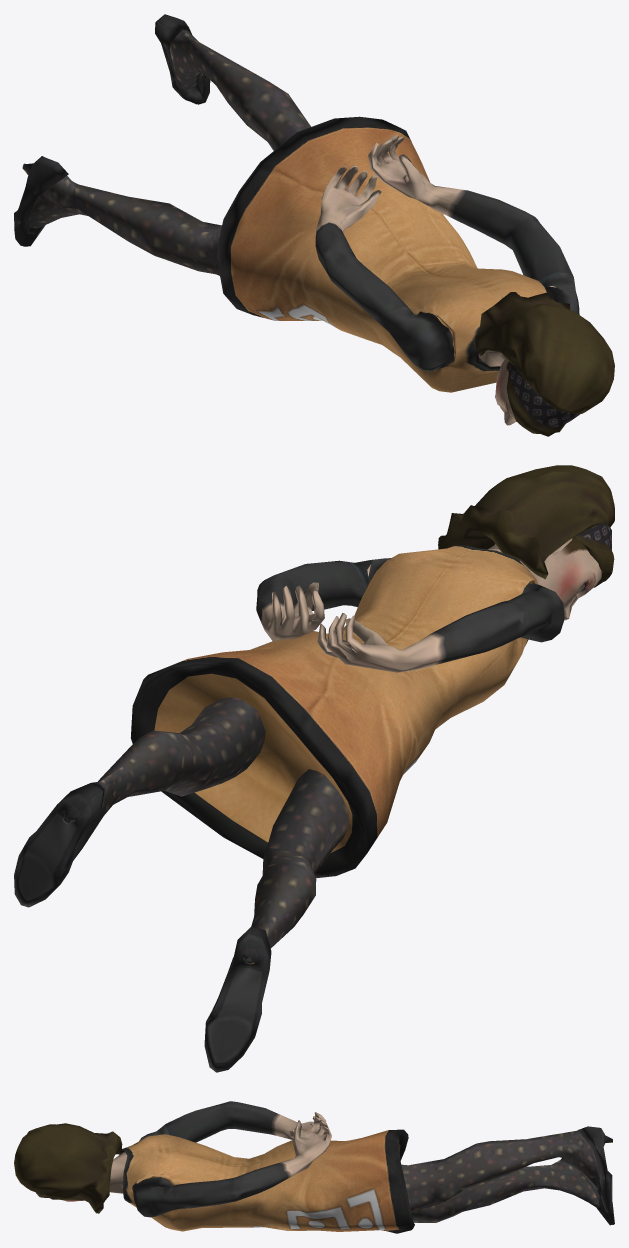
Rendered from dest_nt_nuked_female_01_d0_LOD1.obj.
3 renders of one model, top to bottom at view 1: azimuth 30°, elevation 25°; view 2: azimuth 150°, elevation 25°; view 3: azimuth 270°, elevation 25°, orthographic. The views are drawn at different scales.
Parts seen in each view (by area): view 1: mtl_nt_2020_manne_fem01_dress1, mtl_nt_2020_manne_fem01_head1, mtl_nt_2020_manne_fem01_hair1; view 2: mtl_nt_2020_manne_fem01_dress1, mtl_nt_2020_manne_fem01_head1, mtl_nt_2020_manne_fem01_hair1; view 3: mtl_nt_2020_manne_fem01_head1, mtl_nt_2020_manne_fem01_dress1, mtl_nt_2020_manne_fem01_hair1.
Part boxes in pixels (x1=…): mtl_nt_2020_manne_fem01_dress1: x1=14, y1=14, x2=546, y2=392; mtl_nt_2020_manne_fem01_head1: x1=28, y1=30, x2=579, y2=425; mtl_nt_2020_manne_fem01_hair1: x1=474, y1=292, x2=614, y2=436; mtl_nt_2020_manne_fem01_dress1: x1=14, y1=545, x2=537, y2=1072; mtl_nt_2020_manne_fem01_head1: x1=73, y1=538, x2=601, y2=968; mtl_nt_2020_manne_fem01_hair1: x1=438, y1=465, x2=614, y2=587; mtl_nt_2020_manne_fem01_head1: x1=60, y1=1101, x2=599, y2=1222; mtl_nt_2020_manne_fem01_dress1: x1=119, y1=1126, x2=614, y2=1233; mtl_nt_2020_manne_fem01_hair1: x1=14, y1=1123, x2=122, y2=1213.
Bounding box in the file's own units: 62.69 × 52.47 × 183.
